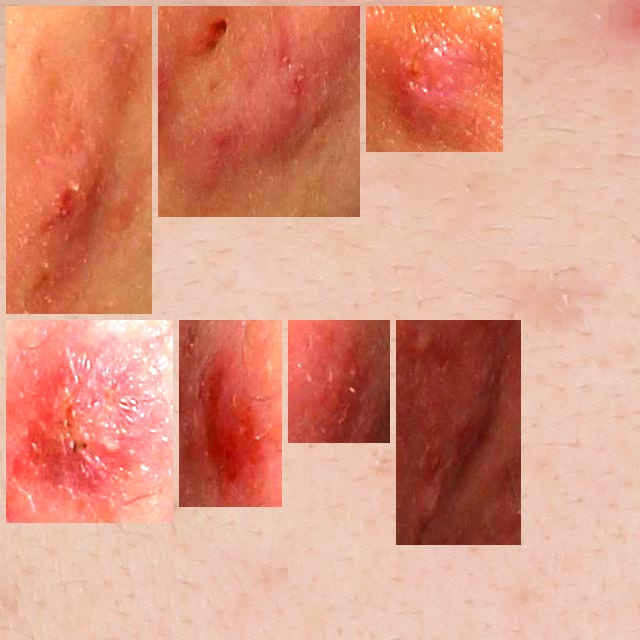nodule: (14, 14, 144, 306), (166, 14, 352, 209), (14, 328, 165, 515), (404, 328, 513, 537), (374, 14, 495, 144), (187, 328, 274, 499), (296, 328, 382, 435)
